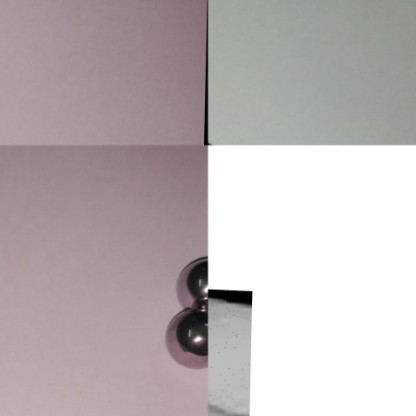ironball: (208, 285, 253, 415), (166, 308, 210, 373), (172, 251, 208, 316)
